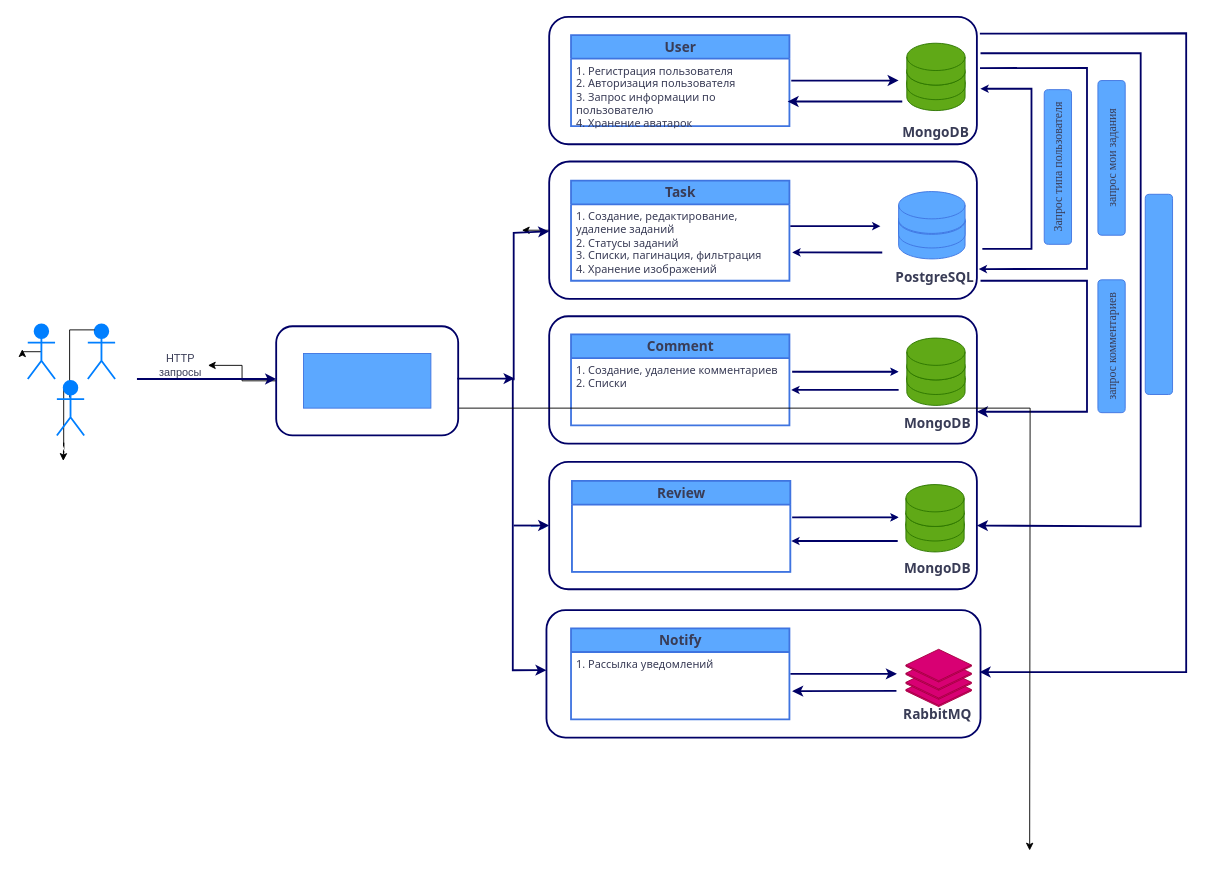
Some shapes in this 1210 by 874 pixel diagram are drawn without their labels. Each missing label, with the centre of its shape:
1. Отзывы с оценкой: point (680, 538)
API GATEWAY: point (367, 380)
запрос рейтинга пользователя: point (1158, 293)
